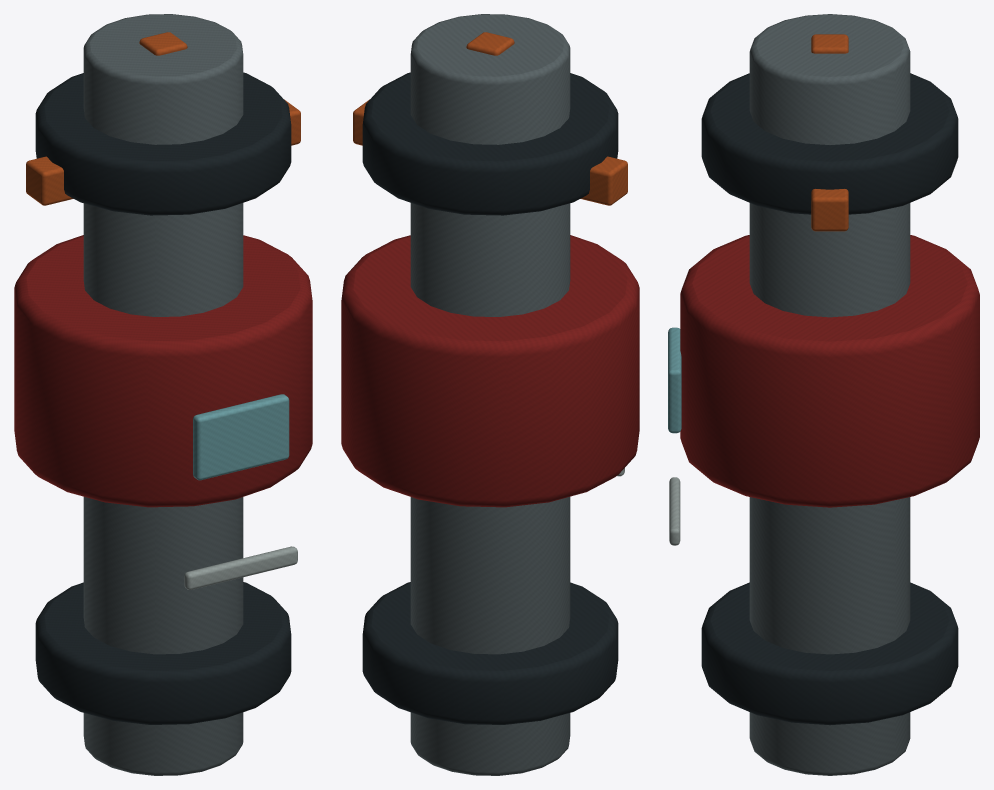
File: PipeValve.fbx
3 views of the same model, side by side, from view 1: azimuth 30°, elevation 25°; view 2: azimuth 150°, elevation 25°; view 3: azimuth 270°, elevation 25° (orthographic).
Visible parts, largest first — view 1: PipeValve_Mesh; view 2: PipeValve_Mesh; view 3: PipeValve_Mesh.
Part boxes in pixels (left/top/right/bottom): PipeValve_Mesh: left=14, top=14, right=312, bottom=775; PipeValve_Mesh: left=341, top=14, right=639, bottom=775; PipeValve_Mesh: left=668, top=14, right=979, bottom=775.
Size of the model in its own units: 56 by 145 by 58.25.
6 materials, 6 textured.
